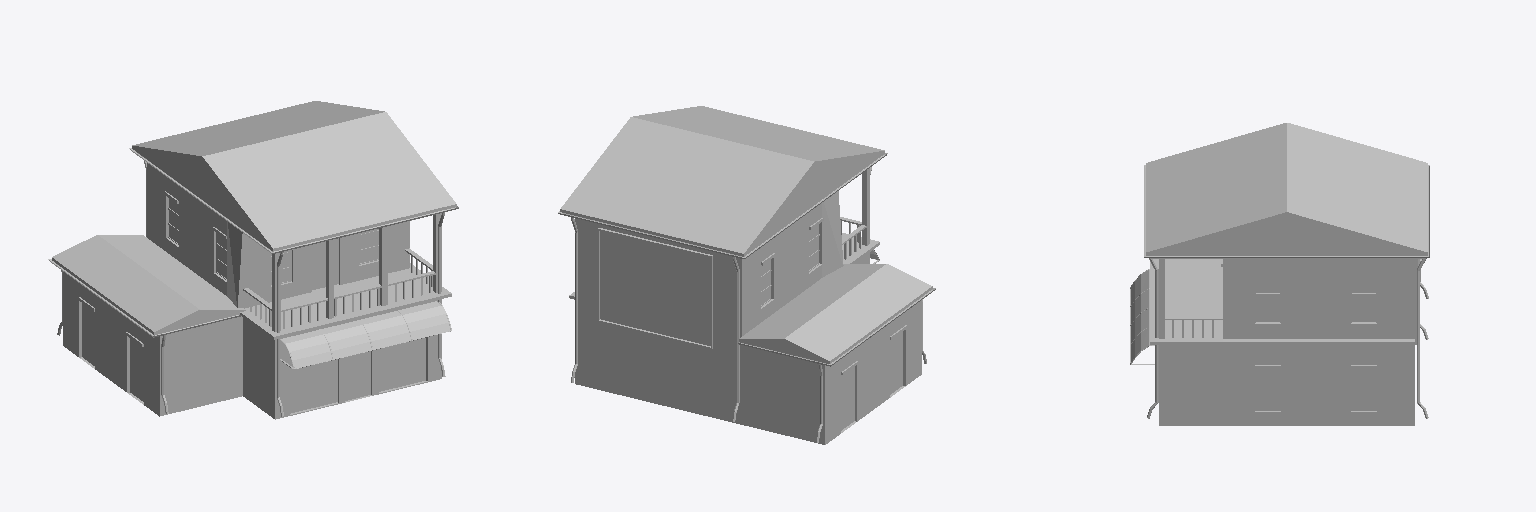
File: House3.obj
3 renders of one model, left to right at view 1: azimuth 30°, elevation 25°; view 2: azimuth 150°, elevation 25°; view 3: azimuth 270°, elevation 25°, orthographic.
Parts seen in each view (by area): view 1: LPBuildX12r_obj_LPBuildX12r; view 2: LPBuildX12r_obj_LPBuildX12r; view 3: LPBuildX12r_obj_LPBuildX12r.
Boxes of the visible parts, x1,y1,x2,y2 form: LPBuildX12r_obj_LPBuildX12r: [48, 101, 458, 419]; LPBuildX12r_obj_LPBuildX12r: [558, 106, 935, 444]; LPBuildX12r_obj_LPBuildX12r: [1130, 123, 1429, 425].
Bounding box in the file's own units: 974 × 750 × 935.